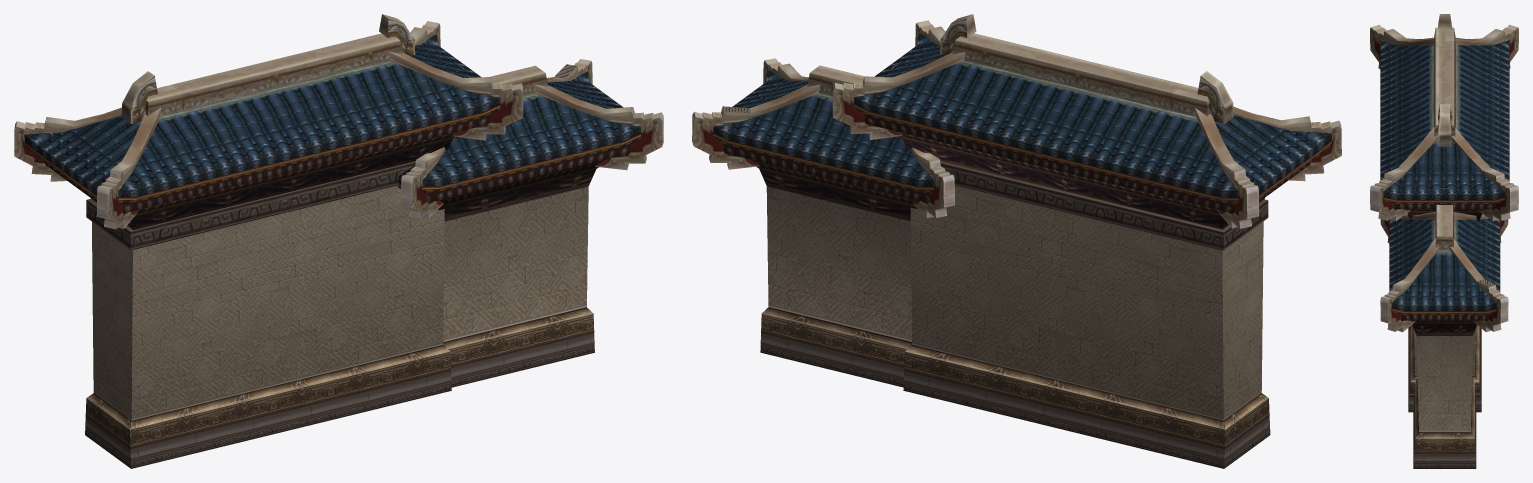
File: cj_luoyang_qiang01_53_36_9487out.fbx
3 renders of one model, left to right at view 1: azimuth 30°, elevation 25°; view 2: azimuth 150°, elevation 25°; view 3: azimuth 270°, elevation 25°, orthographic. The views are drawn at different scales.
Parts seen in each view (by area): view 1: 0000_cj_luoyang_qiang01, 0001_cj_luoyang_qiang01; view 2: 0000_cj_luoyang_qiang01, 0001_cj_luoyang_qiang01; view 3: 0000_cj_luoyang_qiang01, 0001_cj_luoyang_qiang01.
Boxes of the visible parts, <box> form: 0000_cj_luoyang_qiang01: <box>14,14,663,420</box>; 0001_cj_luoyang_qiang01: <box>85,161,594,468</box>; 0000_cj_luoyang_qiang01: <box>692,14,1341,420</box>; 0001_cj_luoyang_qiang01: <box>760,161,1270,468</box>; 0000_cj_luoyang_qiang01: <box>1370,14,1518,432</box>; 0001_cj_luoyang_qiang01: <box>1408,324,1481,468</box>.
Bounding box in the file's own units: 7.75 × 4.76 × 2.2.
